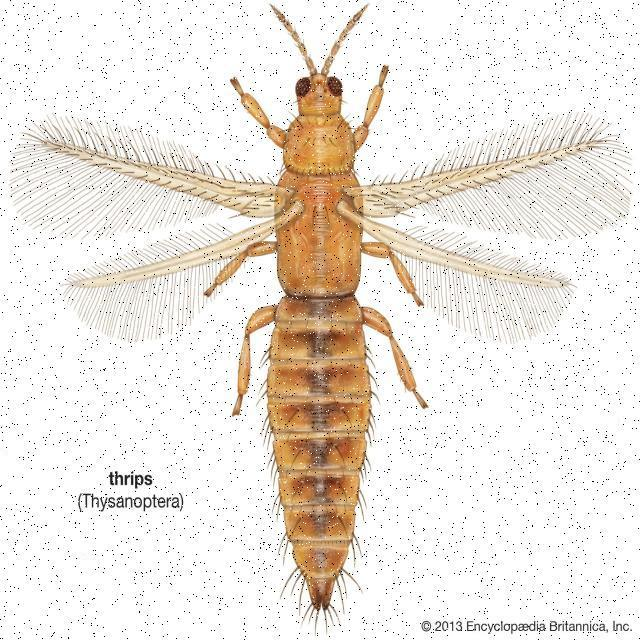Thrips: (215, 26, 418, 640)
